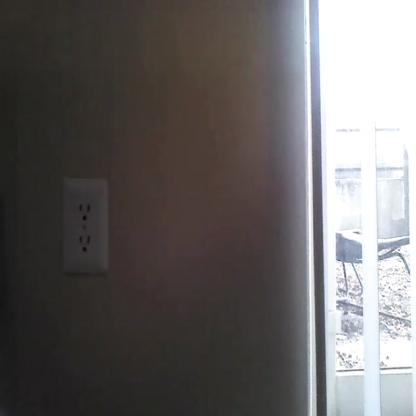OUTLET: (63, 176, 109, 273)
